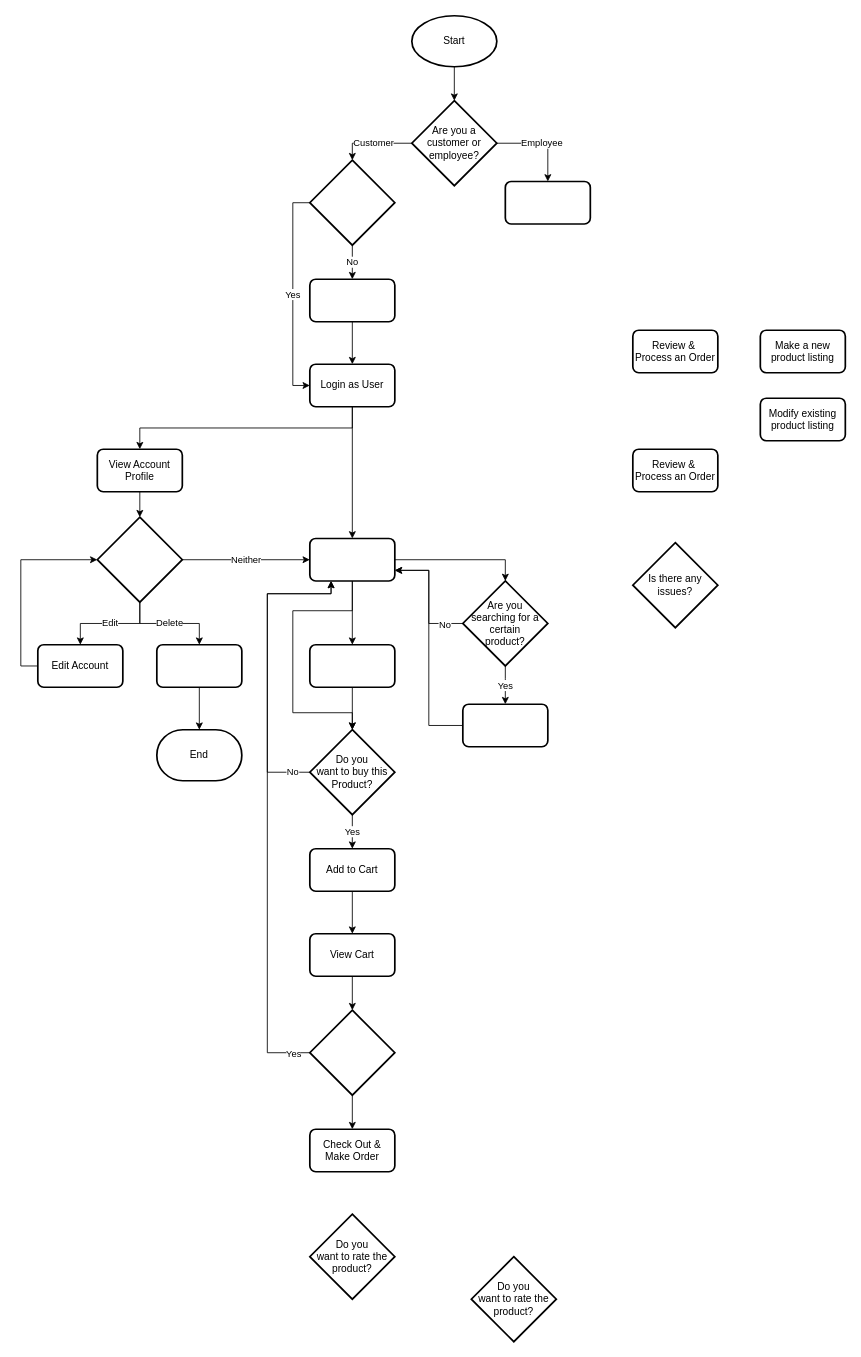
Image size: 861x1357. Some labels were removed from this diagram. The centre of each missing label's shape, as x and y in pixels:
Delete Account: the point at 199,665
Do you have an account?: the point at 352,202
Do you want to buy anything else?: the point at 352,1052
Do you want to Edit / Delete profile?: the point at 139,559
Filter Product: the point at 505,725
Login as Admin: the point at 547,202
Register: the point at 352,300
Shopping: the point at 352,559
View Product Detail: the point at 352,665
